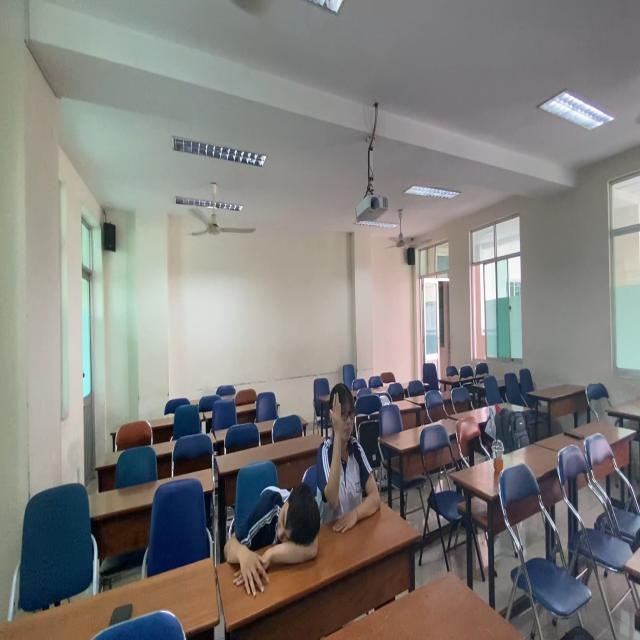raise_hand: (319, 377, 386, 547)
sleep: (221, 480, 327, 589)
